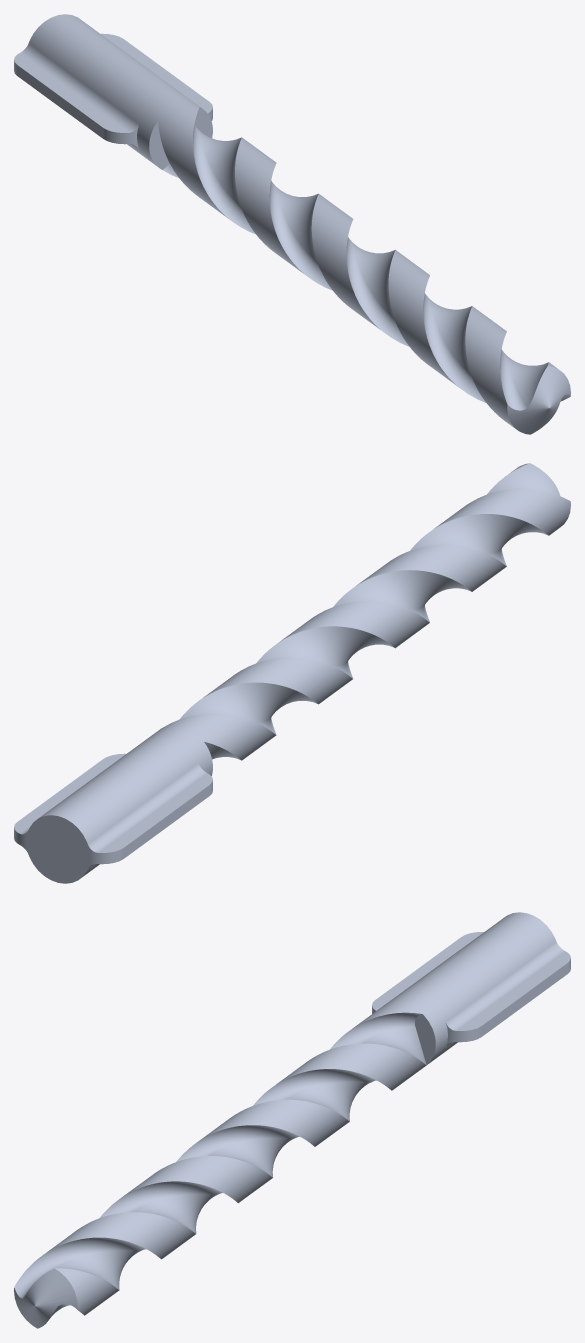
3 renders of one model, top to bottom at view 1: azimuth 30°, elevation 25°; view 2: azimuth 150°, elevation 25°; view 3: azimuth 330°, elevation 25°, orthographic.
Visible parts, largest first — view 1: Part1; view 2: Part1; view 3: Part1.
Boxes of the visible parts, box(x1,y1,x2,y2) form: Part1: box(14, 14, 570, 434); Part1: box(14, 463, 570, 883); Part1: box(14, 912, 570, 1328).
Size of the model in its own units: 0.01 by 0.006 by 0.08.
